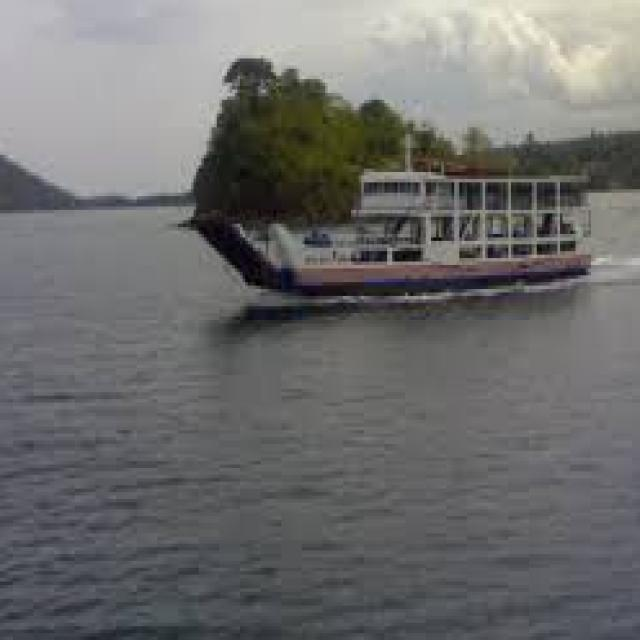passenger ship: (201, 144, 593, 295)
